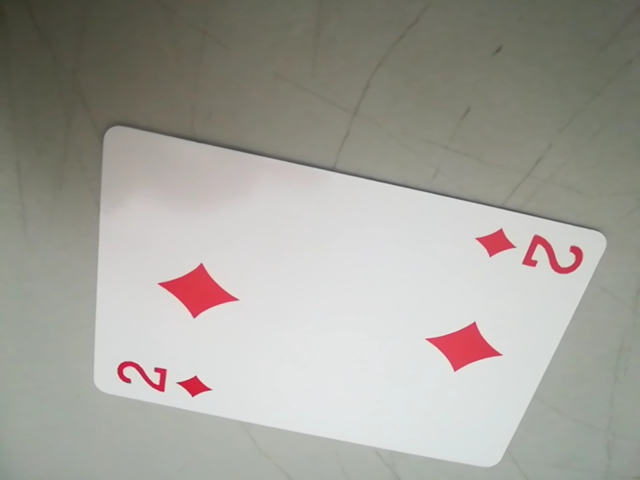fk 2: (473, 224, 593, 280), (110, 351, 225, 406)
